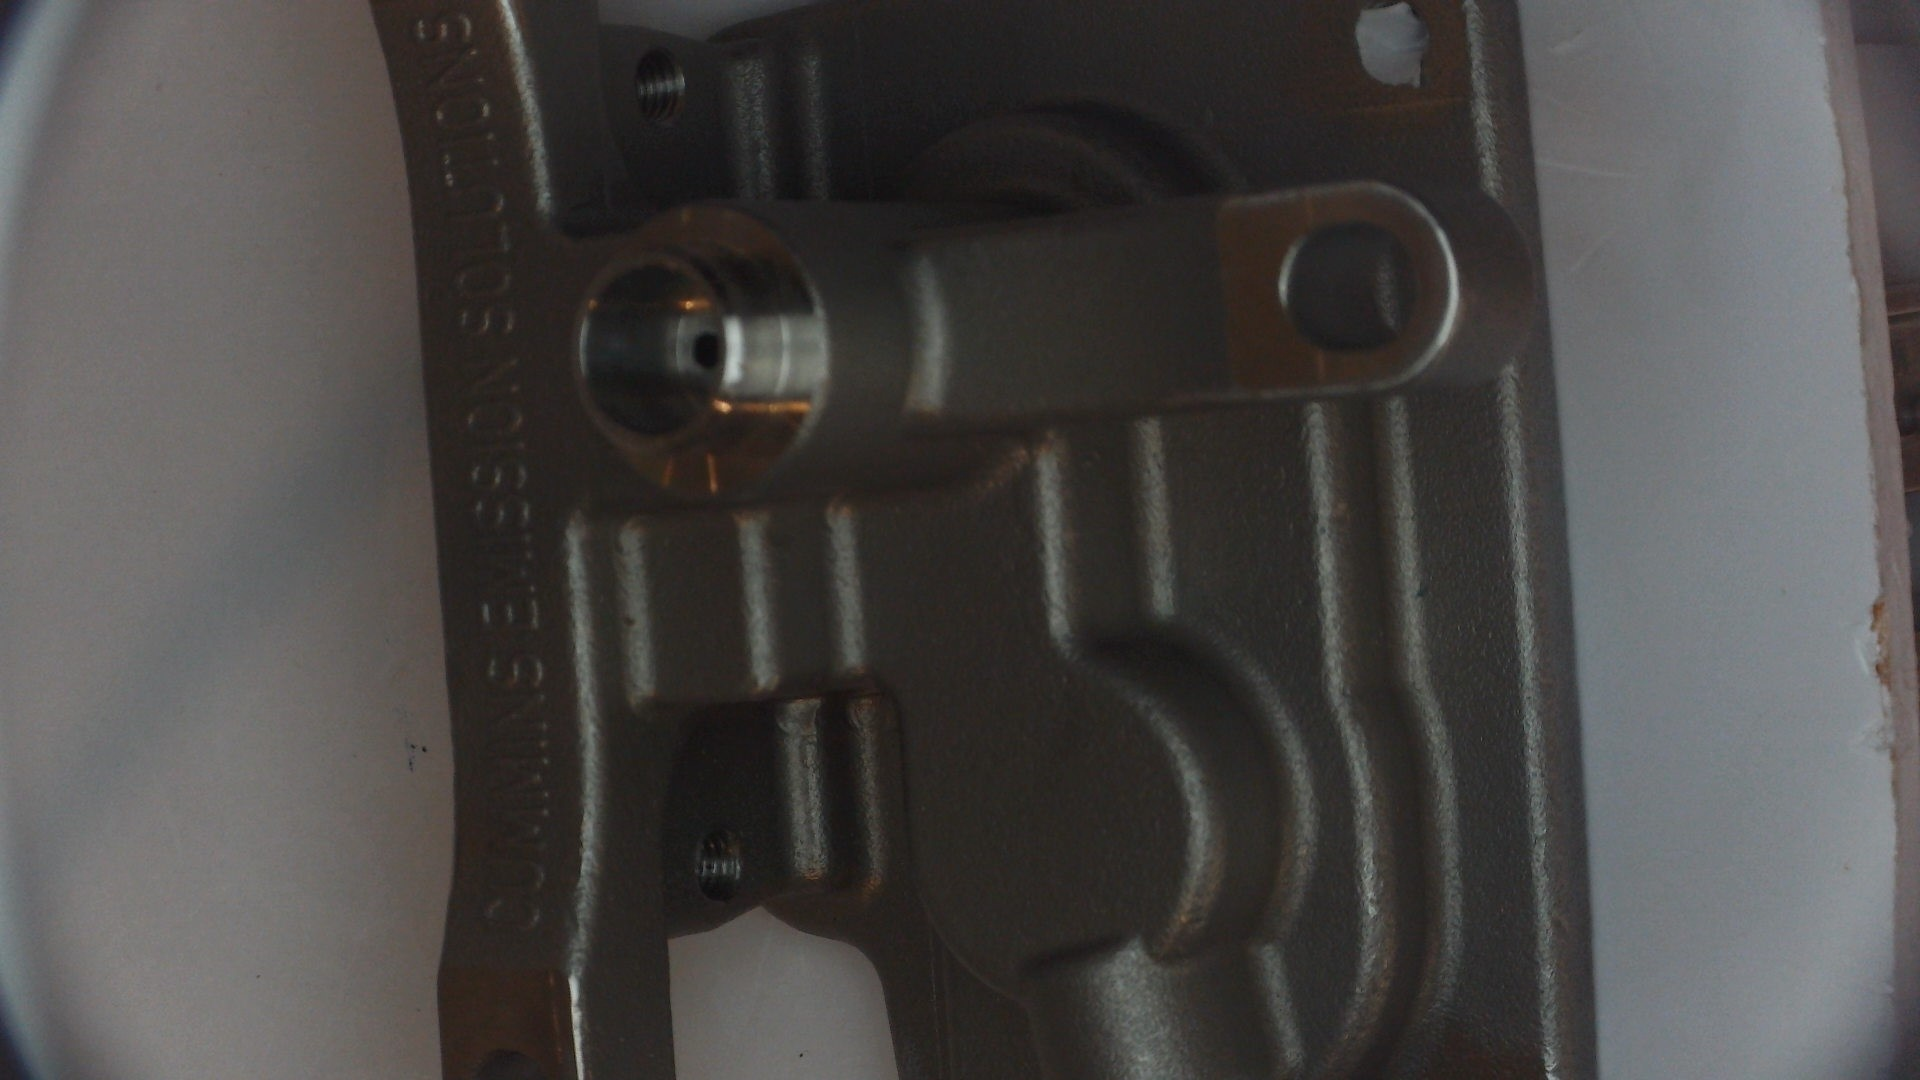thread_absence: (1352, 1, 1444, 95)
thread_presence: (632, 44, 687, 127), (694, 818, 745, 903)
